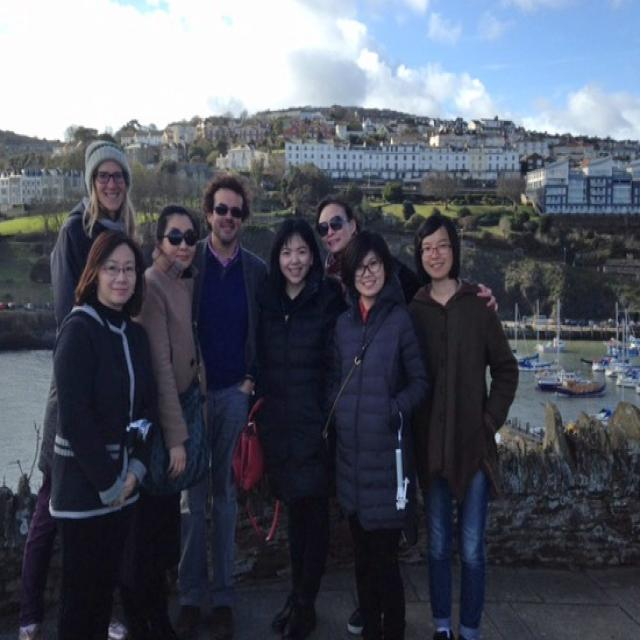body: (312, 194, 500, 637), (14, 136, 147, 638), (402, 210, 524, 640), (168, 171, 274, 638), (317, 224, 435, 638), (44, 223, 161, 639), (246, 213, 344, 638), (130, 201, 218, 640)
